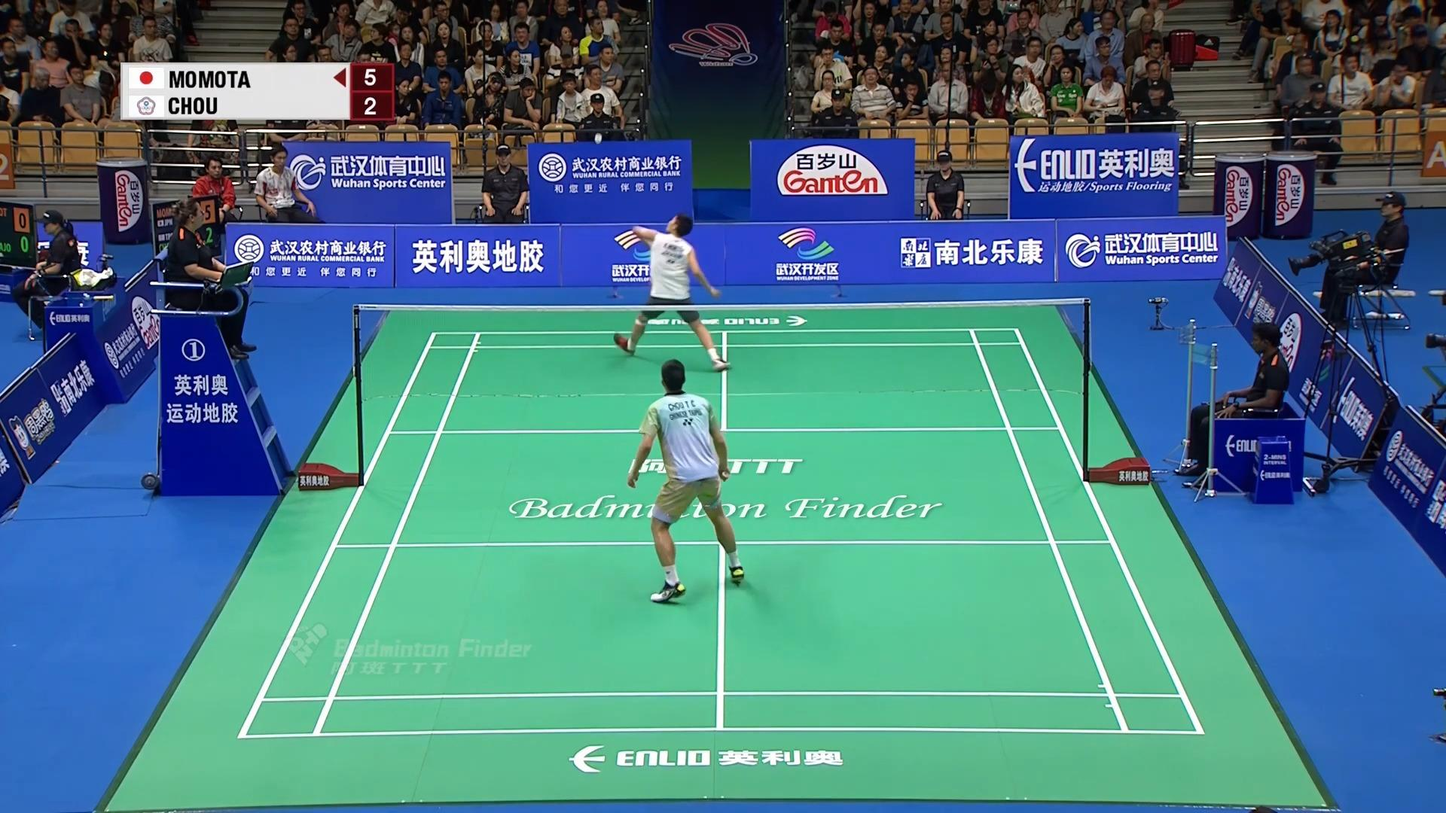shuttlecock: (593, 132, 604, 145)
